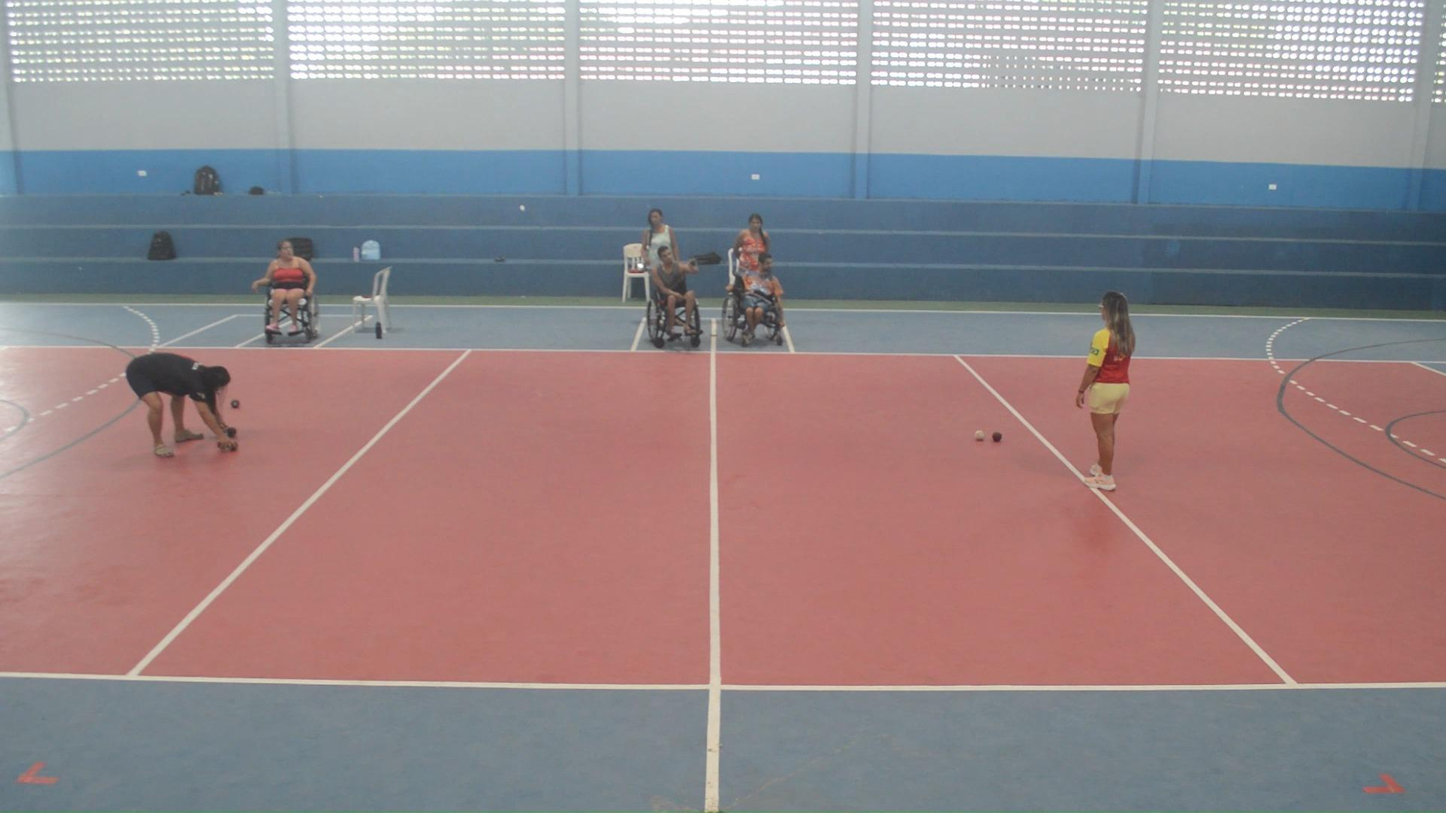red_ball: (992, 431, 1003, 443)
white_ball: (975, 430, 985, 442)
